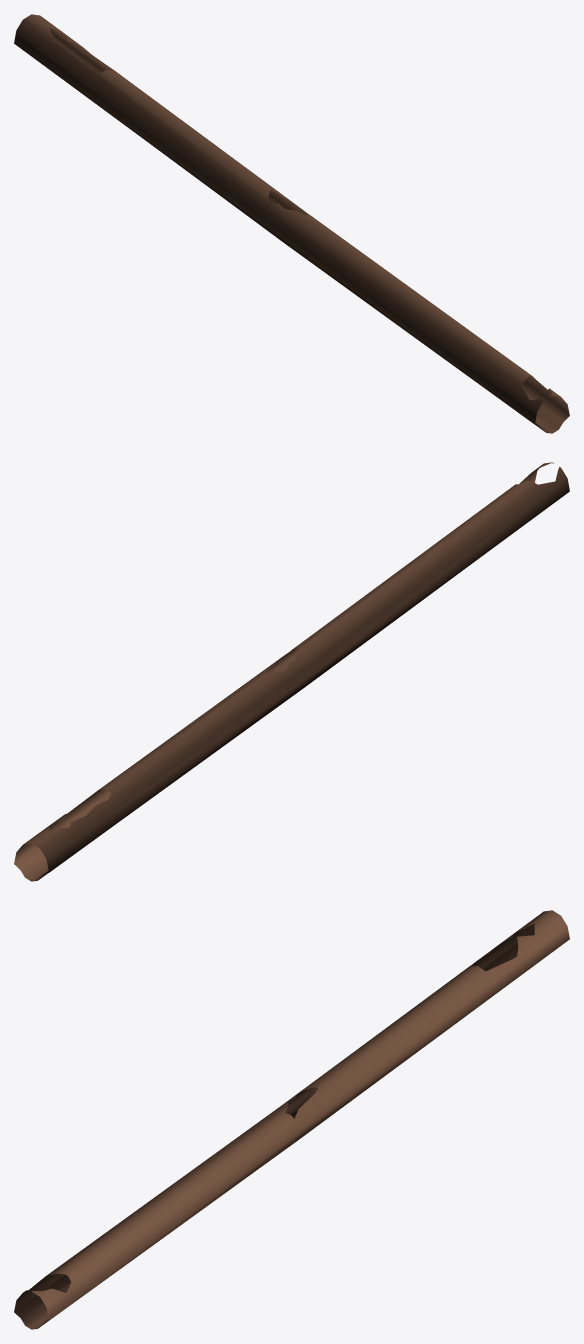
Rendered from Old pipes midle.fbx.
3 renders of one model, top to bottom at view 1: azimuth 30°, elevation 25°; view 2: azimuth 150°, elevation 25°; view 3: azimuth 330°, elevation 25°, orthographic.
Parts seen in each view (by area): view 1: BezierCurve.002; view 2: BezierCurve.002; view 3: BezierCurve.002.
Boxes of the visible parts, left/top/right/bottom form: BezierCurve.002: left=14, top=14, right=569, bottom=433; BezierCurve.002: left=14, top=462, right=569, bottom=881; BezierCurve.002: left=14, top=910, right=569, bottom=1329.
Bounding box in the file's own units: 1.83 × 47.04 × 1.9.
